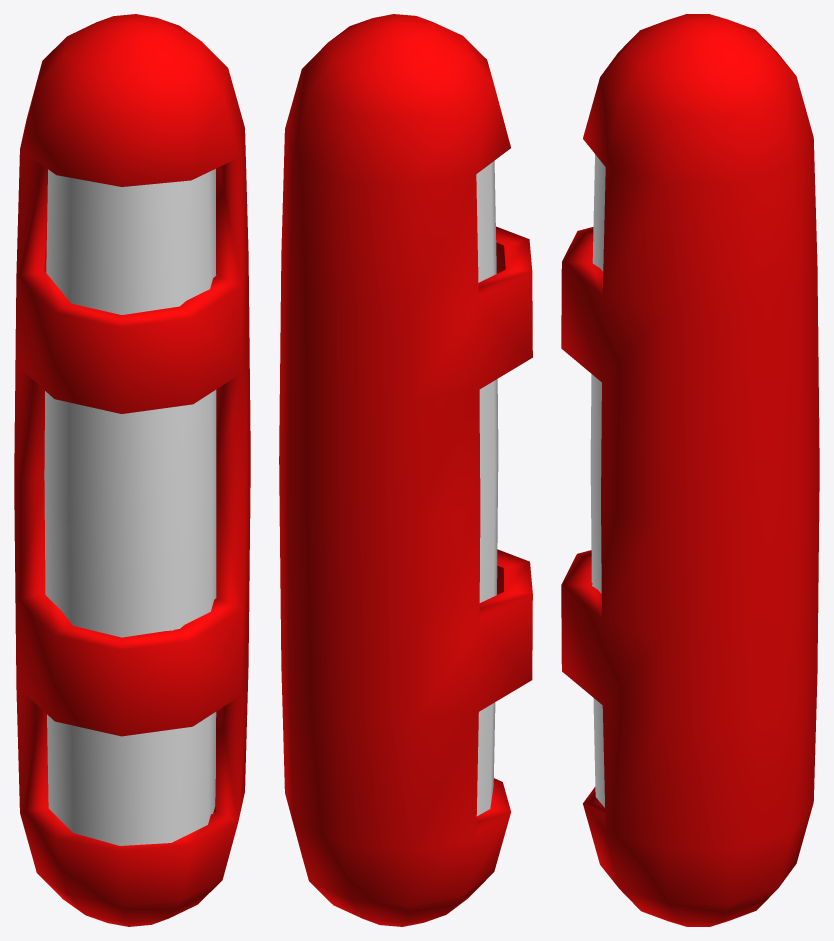
File: WitchShop_Lamp.fbx
3 renders of one model, left to right at view 1: azimuth 30°, elevation 25°; view 2: azimuth 150°, elevation 25°; view 3: azimuth 270°, elevation 25°, orthographic.
Parts seen in each view (by area): view 1: Lamp; view 2: Lamp; view 3: Lamp.
Boxes of the visible parts, left/top/right/bottom form: Lamp: left=14, top=14, right=250, bottom=926; Lamp: left=279, top=14, right=532, bottom=926; Lamp: left=561, top=14, right=819, bottom=926.
Bounding box in the file's own units: 24.73 × 102 × 26.74.
